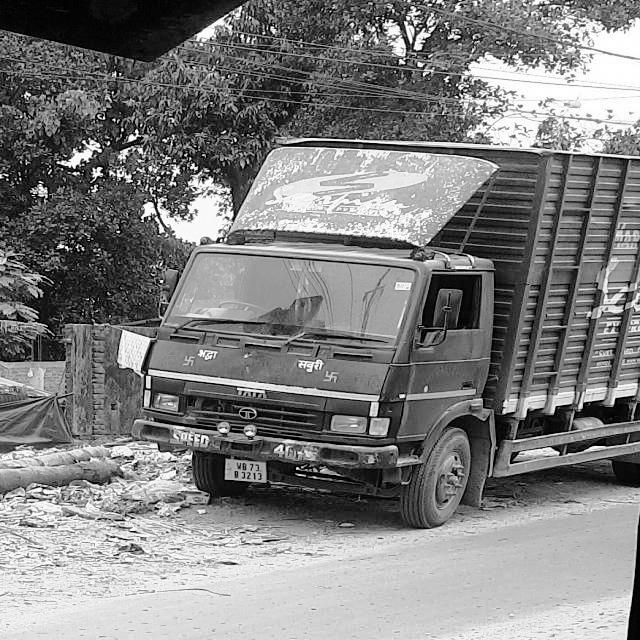HCV: (125, 206, 511, 561)
